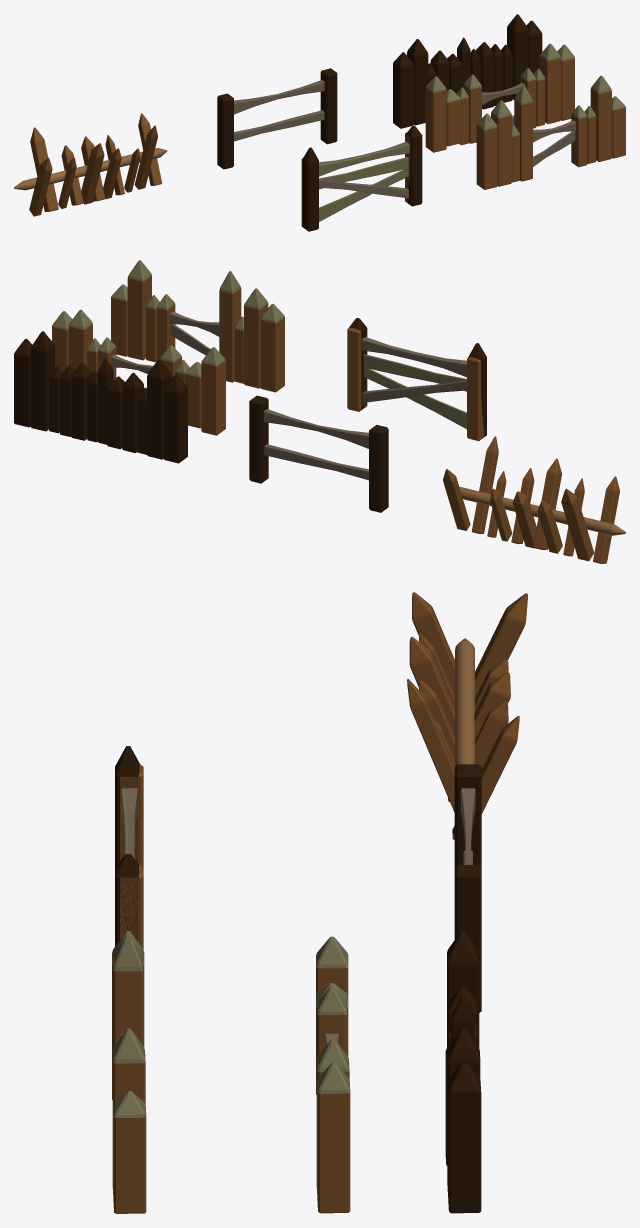
Rendered from fence2.fbx.
3 renders of one model, top to bottom at view 1: azimuth 30°, elevation 25°; view 2: azimuth 150°, elevation 25°; view 3: azimuth 270°, elevation 25°, orthographic. The views are drawn at different scales.
Visible parts, largest first — view 1: Cube.012, Cube.024, Cube.033, Cube.042, Cube.001, Cube.002, Cube, Cube.003, Cube.005, Cylinder, Cube.010, Cube.011 (+1 smaller); view 2: Cube.024, Cube.012, Cube.042, Cube.033, Cube.002, Cube.004, Cube.001, Cube.003, Cube.005, Cylinder, Cube, Cube.010; view 3: Cube.042, Cube.024, Cube.012, Cube.033, Cube.002, Cube, Cube.004, Cylinder, Cube.003.
Part boxes in pixels (<box>): Cube.012: <box>476,75,625,189</box>; Cube.024: <box>393,14,542,128</box>; Cube.033: <box>425,43,574,152</box>; Cube.042: <box>29,113,161,216</box>; Cube.001: <box>319,143,409,221</box>; Cube.002: <box>217,68,337,169</box>; Cube: <box>302,125,422,231</box>; Cube.003: <box>234,80,324,141</box>; Cube.005: <box>319,141,408,198</box>; Cylinder: <box>14,148,167,190</box>; Cube.010: <box>533,120,575,166</box>; Cube.011: <box>482,83,524,124</box>; Cube.024: <box>14,331,187,463</box>; Cube.012: <box>111,260,284,392</box>; Cube.042: <box>443,436,619,563</box>; Cube.033: <box>52,309,225,435</box>; Cube.002: <box>249,395,388,512</box>; Cube.004: <box>347,327,484,441</box>; Cube.001: <box>363,337,466,429</box>; Cube.003: <box>264,409,368,480</box>; Cube.005: <box>362,337,466,402</box>; Cylinder: <box>459,486,625,535</box>; Cube: <box>348,318,486,437</box>; Cube.010: <box>170,311,219,355</box>; Cube.042: <box>407,592,527,839</box>; Cube.024: <box>445,931,481,1213</box>; Cube.012: <box>112,931,146,1213</box>; Cube.033: <box>316,936,350,1213</box>; Cube.002: <box>454,764,481,1012</box>; Cube: <box>115,746,140,946</box>; Cube.004: <box>120,764,143,949</box>; Cylinder: <box>455,638,474,766</box>; Cube.003: <box>460,788,475,864</box>.
Size of the model in its own units: 1798 by 305 by 618.
